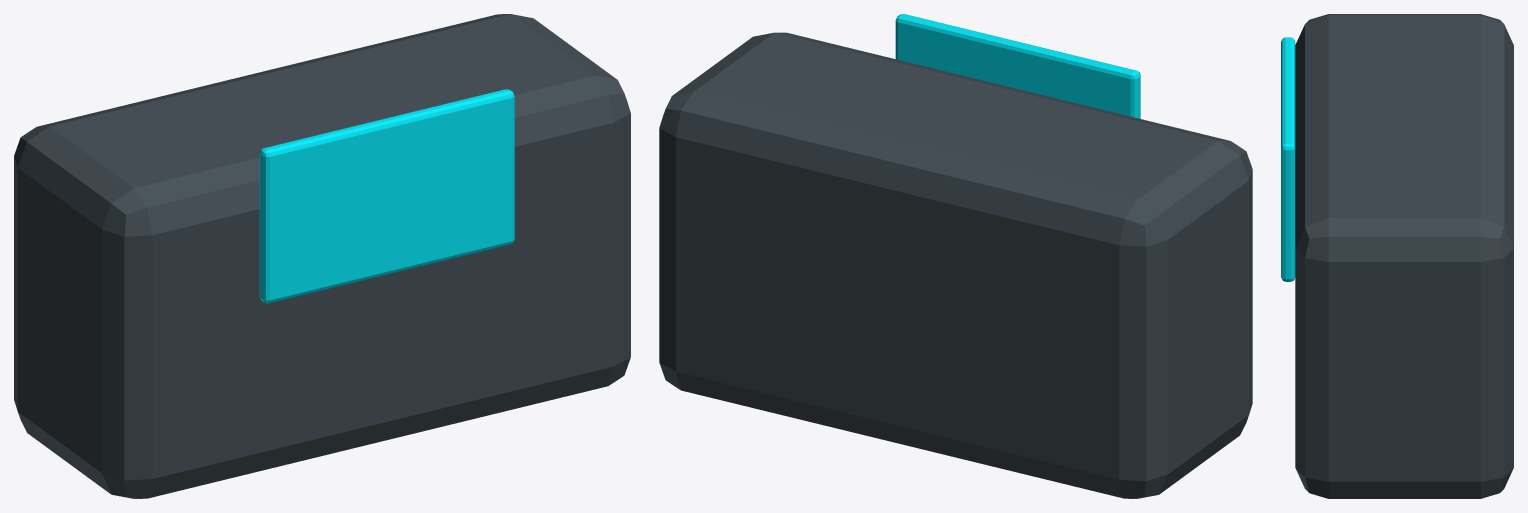
Rendered from LPK_Cockpit_ControlConsole.fbx.
The picture shows the model from 3 angles, left to right: view 1: azimuth 30°, elevation 25°; view 2: azimuth 150°, elevation 25°; view 3: azimuth 270°, elevation 25°; orthographic projection. The views are drawn at different scales.
Visible parts, largest first — view 1: LPK_Cockpit_ControlConsole_Body, LPK_Cockpit_ControlConsole_Screen; view 2: LPK_Cockpit_ControlConsole_Body, LPK_Cockpit_ControlConsole_Screen; view 3: LPK_Cockpit_ControlConsole_Body, LPK_Cockpit_ControlConsole_Screen.
Boxes of the visible parts, x1=… form: LPK_Cockpit_ControlConsole_Body: x1=14, y1=14, x2=630, y2=498; LPK_Cockpit_ControlConsole_Screen: x1=259, y1=89, x2=514, y2=303; LPK_Cockpit_ControlConsole_Body: x1=659, y1=32, x2=1252, y2=498; LPK_Cockpit_ControlConsole_Screen: x1=895, y1=14, x2=1140, y2=118; LPK_Cockpit_ControlConsole_Body: x1=1295, y1=14, x2=1513, y2=498; LPK_Cockpit_ControlConsole_Screen: x1=1281, y1=37, x2=1295, y2=281.
Size of the model in its own units: 2.3 by 1.42 by 0.98.
